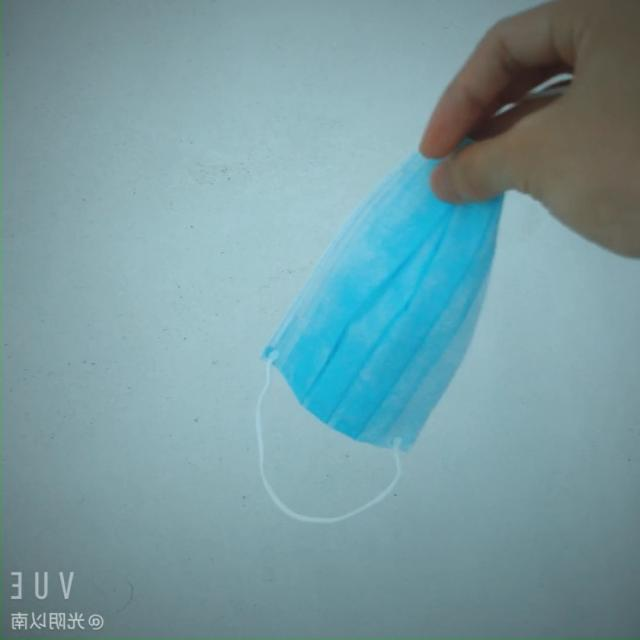face mask: (261, 113, 535, 470)
